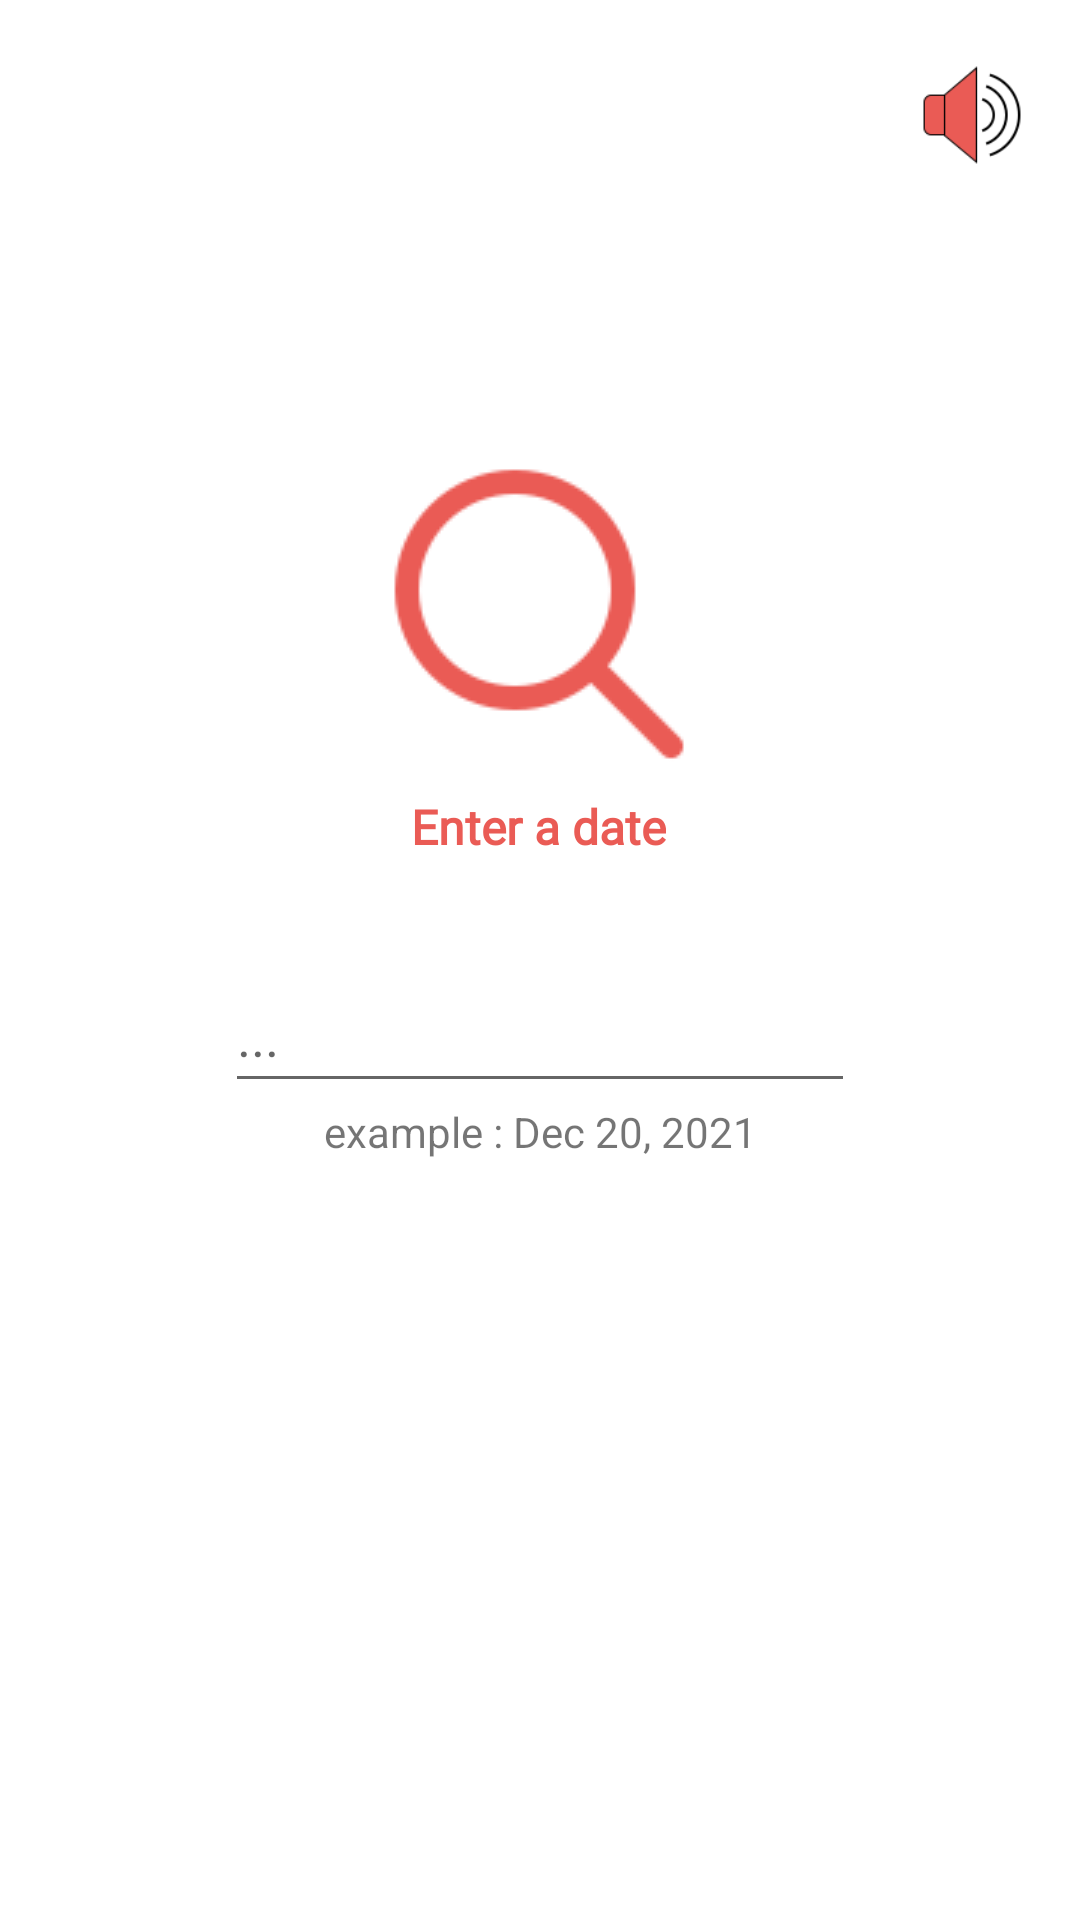

Icon bounding boxes for this 1080x1920 phone screenshot, format (x1, y1, x2, y2):
audio: (923, 66, 1021, 164)
search: (394, 469, 684, 759)
